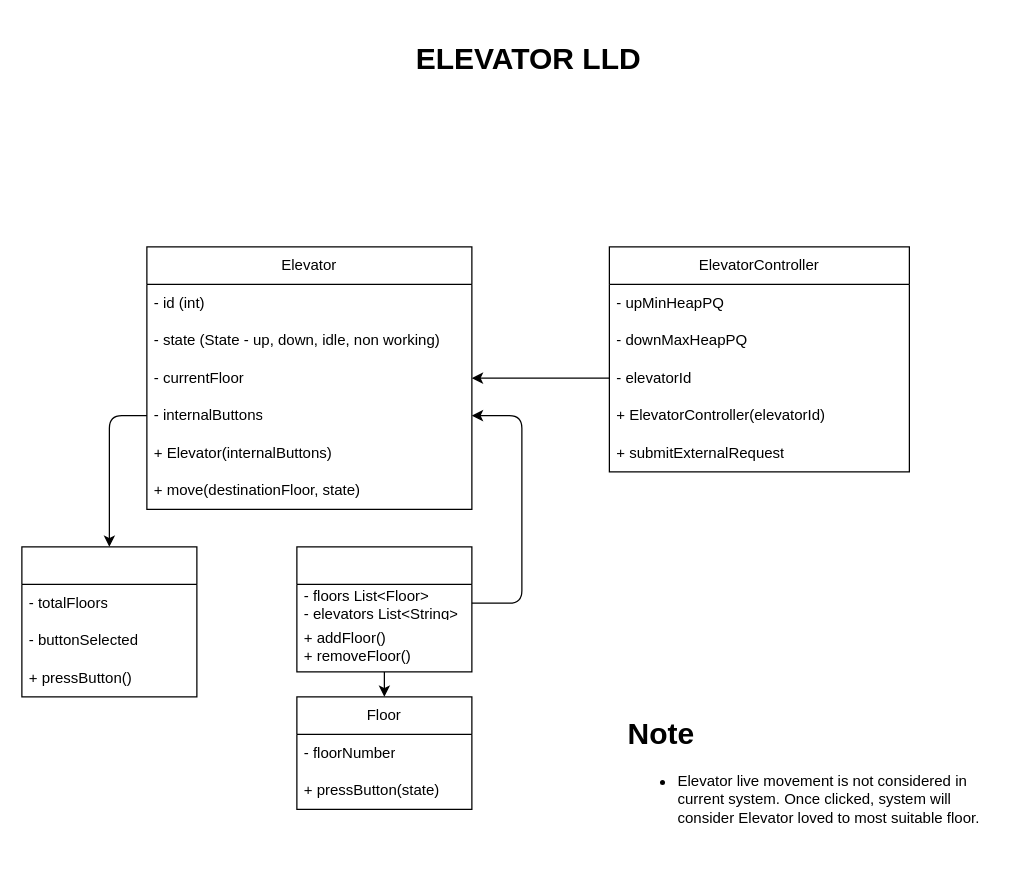
The diagram is 1031 pixels wide and 881 high, and some of its shapes have lost their labels. The box of each missing label's shape, as (x1, y1, x2, y2) in pixels:
Building: (296, 546, 472, 672)
InternalButttons: (21, 546, 197, 697)
